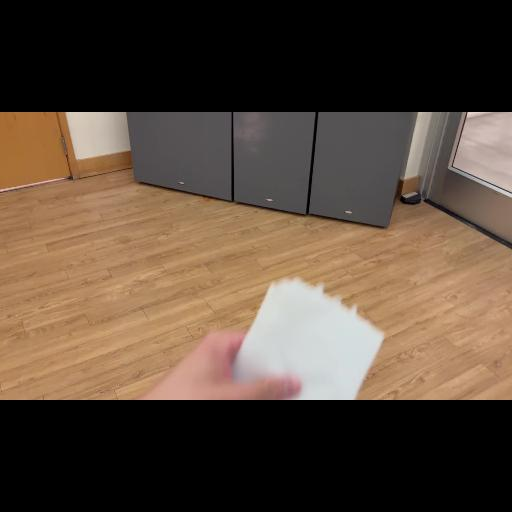napkin: (218, 268, 408, 400)
